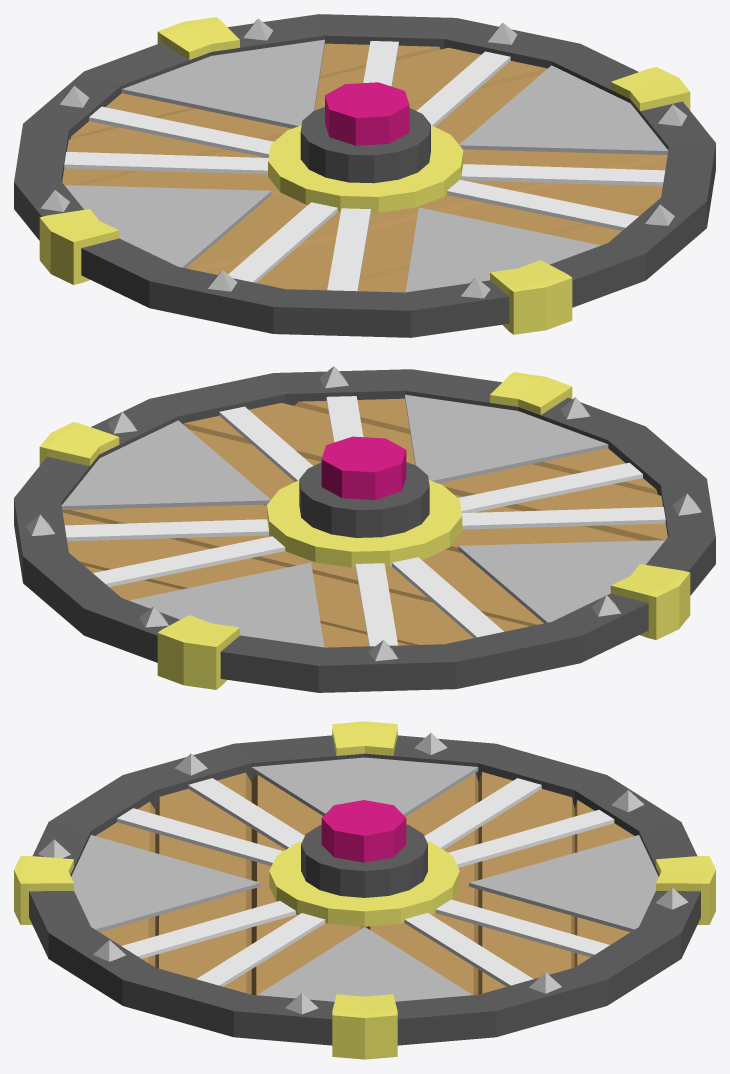
Rendered from Shield_1_e_wood.fbx.
The picture shows the model from 3 angles, top to bottom: view 1: azimuth 30°, elevation 25°; view 2: azimuth 150°, elevation 25°; view 3: azimuth 270°, elevation 25°; orthographic projection. The views are drawn at different scales.
Visible parts, largest first — view 1: Circle.083, Circle.084, Circle.082, Circle.086, Circle.085, Circle.088, Circle.090, Circle.081, Circle.087, Circle.080, Circle.089; view 2: Circle.083, Circle.084, Circle.082, Circle.086, Circle.085, Circle.087, Circle.089, Circle.081, Circle.088, Circle.080, Circle.090; view 3: Circle.083, Circle.082, Circle.084, Circle.086, Circle.085, Circle.089, Circle.090, Circle.081, Circle.088, Circle.087, Circle.080.
Boxes of the visible parts, left/top/right/bottom form: Circle.083: left=14, top=14, right=715, bottom=337; Circle.084: left=64, top=39, right=668, bottom=292; Circle.082: left=62, top=43, right=667, bottom=292; Circle.086: left=39, top=17, right=690, bottom=334; Circle.085: left=268, top=125, right=463, bottom=212; Circle.088: left=64, top=151, right=665, bottom=186; Circle.090: left=89, top=106, right=638, bottom=230; Circle.081: left=300, top=107, right=430, bottom=183; Circle.087: left=228, top=51, right=510, bottom=282; Circle.080: left=325, top=82, right=409, bottom=145; Circle.089: left=327, top=41, right=398, bottom=291; Circle.083: left=14, top=369, right=715, bottom=692; Circle.084: left=61, top=394, right=665, bottom=647; Circle.082: left=62, top=398, right=667, bottom=647; Circle.086: left=39, top=372, right=690, bottom=689; Circle.085: left=267, top=480, right=462, bottom=567; Circle.087: left=64, top=507, right=665, bottom=541; Circle.089: left=93, top=462, right=642, bottom=586; Circle.081: left=299, top=462, right=429, bottom=537; Circle.088: left=219, top=406, right=503, bottom=637; Circle.080: left=321, top=436, right=406, bottom=499; Circle.090: left=326, top=396, right=397, bottom=646; Circle.083: left=29, top=735, right=700, bottom=1045; Circle.082: left=96, top=772, right=633, bottom=995; Circle.084: left=71, top=757, right=658, bottom=1001; Circle.086: left=14, top=721, right=715, bottom=1059; Circle.085: left=269, top=841, right=459, bottom=926; Circle.089: left=117, top=808, right=609, bottom=957; Circle.090: left=121, top=810, right=614, bottom=958; Circle.081: left=301, top=824, right=427, bottom=897; Circle.088: left=196, top=778, right=541, bottom=986; Circle.087: left=188, top=778, right=533, bottom=986; Circle.080: left=321, top=800, right=406, bottom=862.
Bounding box in the file's own units: 82.85 × 22.17 × 82.85.
